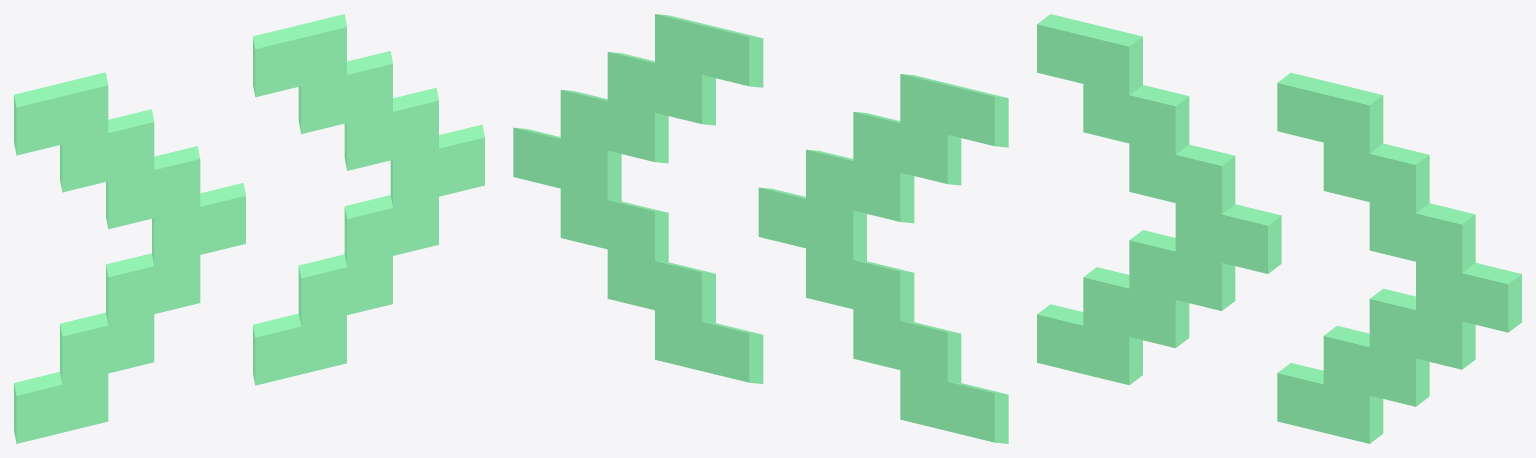
File: Exit_Chevron.gltf
The picture shows the model from 3 angles, left to right: view 1: azimuth 30°, elevation 25°; view 2: azimuth 150°, elevation 25°; view 3: azimuth 330°, elevation 25°; orthographic projection. The views are drawn at different scales.
Visible parts, largest first — view 1: Exit_Chevron_baked; view 2: Exit_Chevron_baked; view 3: Exit_Chevron_baked.
Boxes of the visible parts, x1,y1,x2,y2 form: Exit_Chevron_baked: [14, 14, 484, 443]; Exit_Chevron_baked: [513, 14, 1008, 443]; Exit_Chevron_baked: [1037, 14, 1521, 443].
Bounding box in the file's own units: 1.03 × 0.712 × 0.03.
